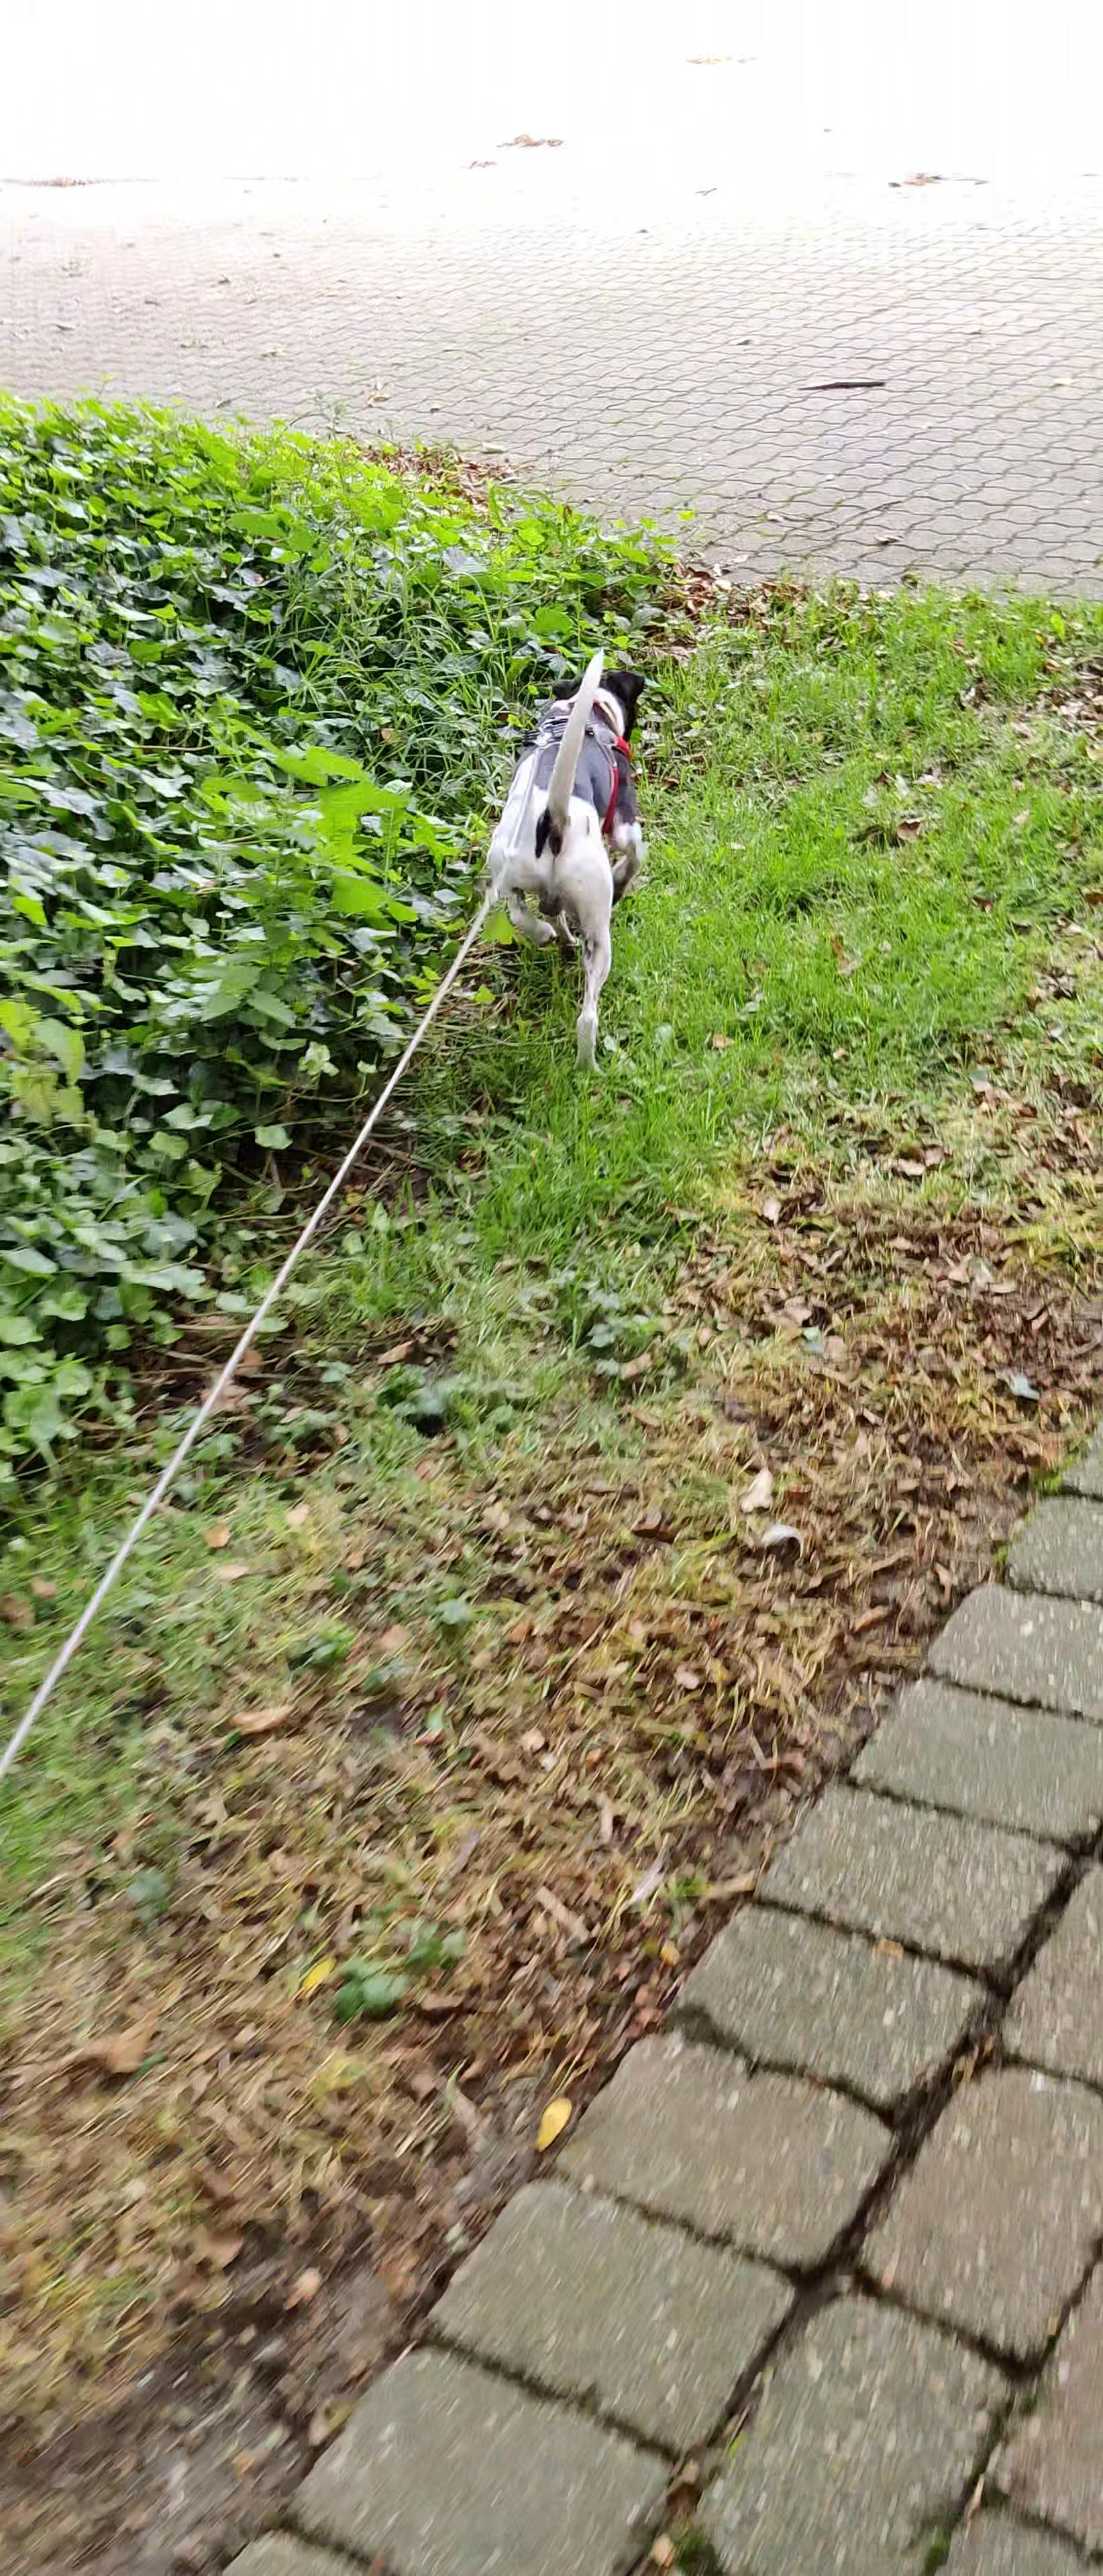Dog: (465, 629, 676, 1094)
